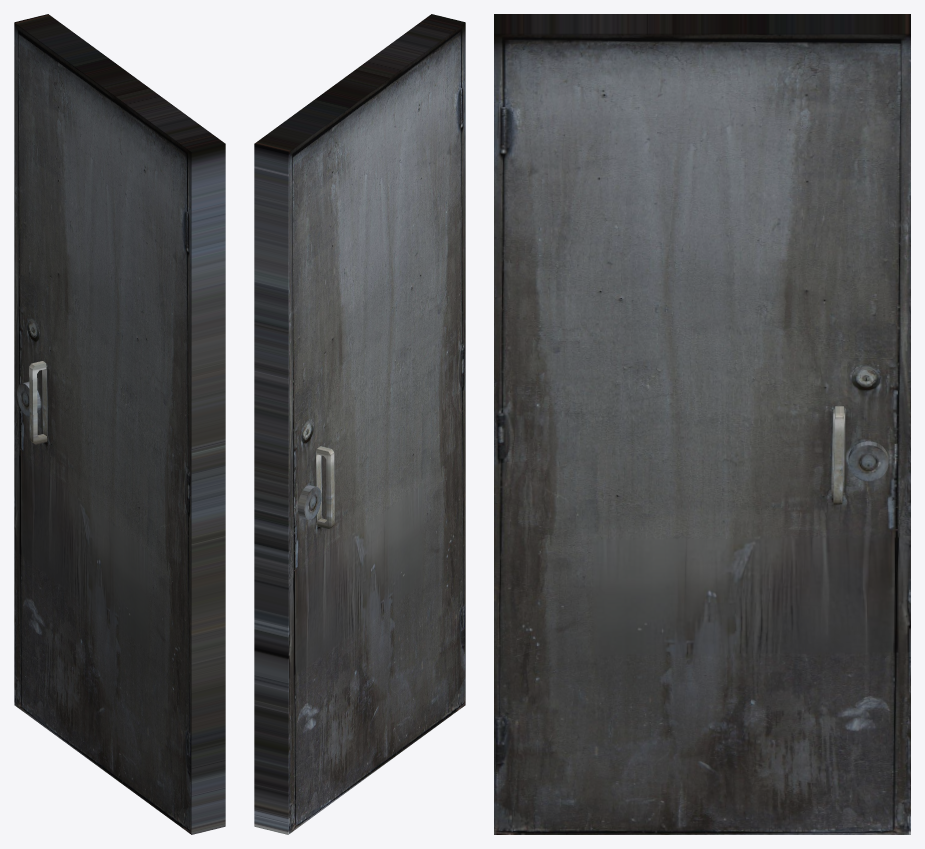
Rendered from Door.fbx.
The picture shows the model from 3 angles, left to right: view 1: azimuth 30°, elevation 25°; view 2: azimuth 150°, elevation 25°; view 3: azimuth 270°, elevation 25°; orthographic projection. The views are drawn at different scales.
Parts seen in each view (by area): view 1: Cube, Куб, Цилиндр; view 2: Cube, Куб, Цилиндр; view 3: Cube, Цилиндр, Куб.
Part boxes in pixels (x1=…): Cube: x1=14, y1=14, x2=225, y2=834; Куб: x1=29, y1=361, x2=47, y2=444; Цилиндр: x1=17, y1=381, x2=40, y2=416; Cube: x1=254, y1=14, x2=465, y2=834; Куб: x1=316, y1=446, x2=334, y2=529; Цилиндр: x1=298, y1=485, x2=321, y2=519; Cube: x1=494, y1=14, x2=910, y2=834; Цилиндр: x1=848, y1=441, x2=888, y2=481; Куб: x1=833, y1=406, x2=843, y2=504.
Size of the model in its own units: 36 by 382 by 180.
